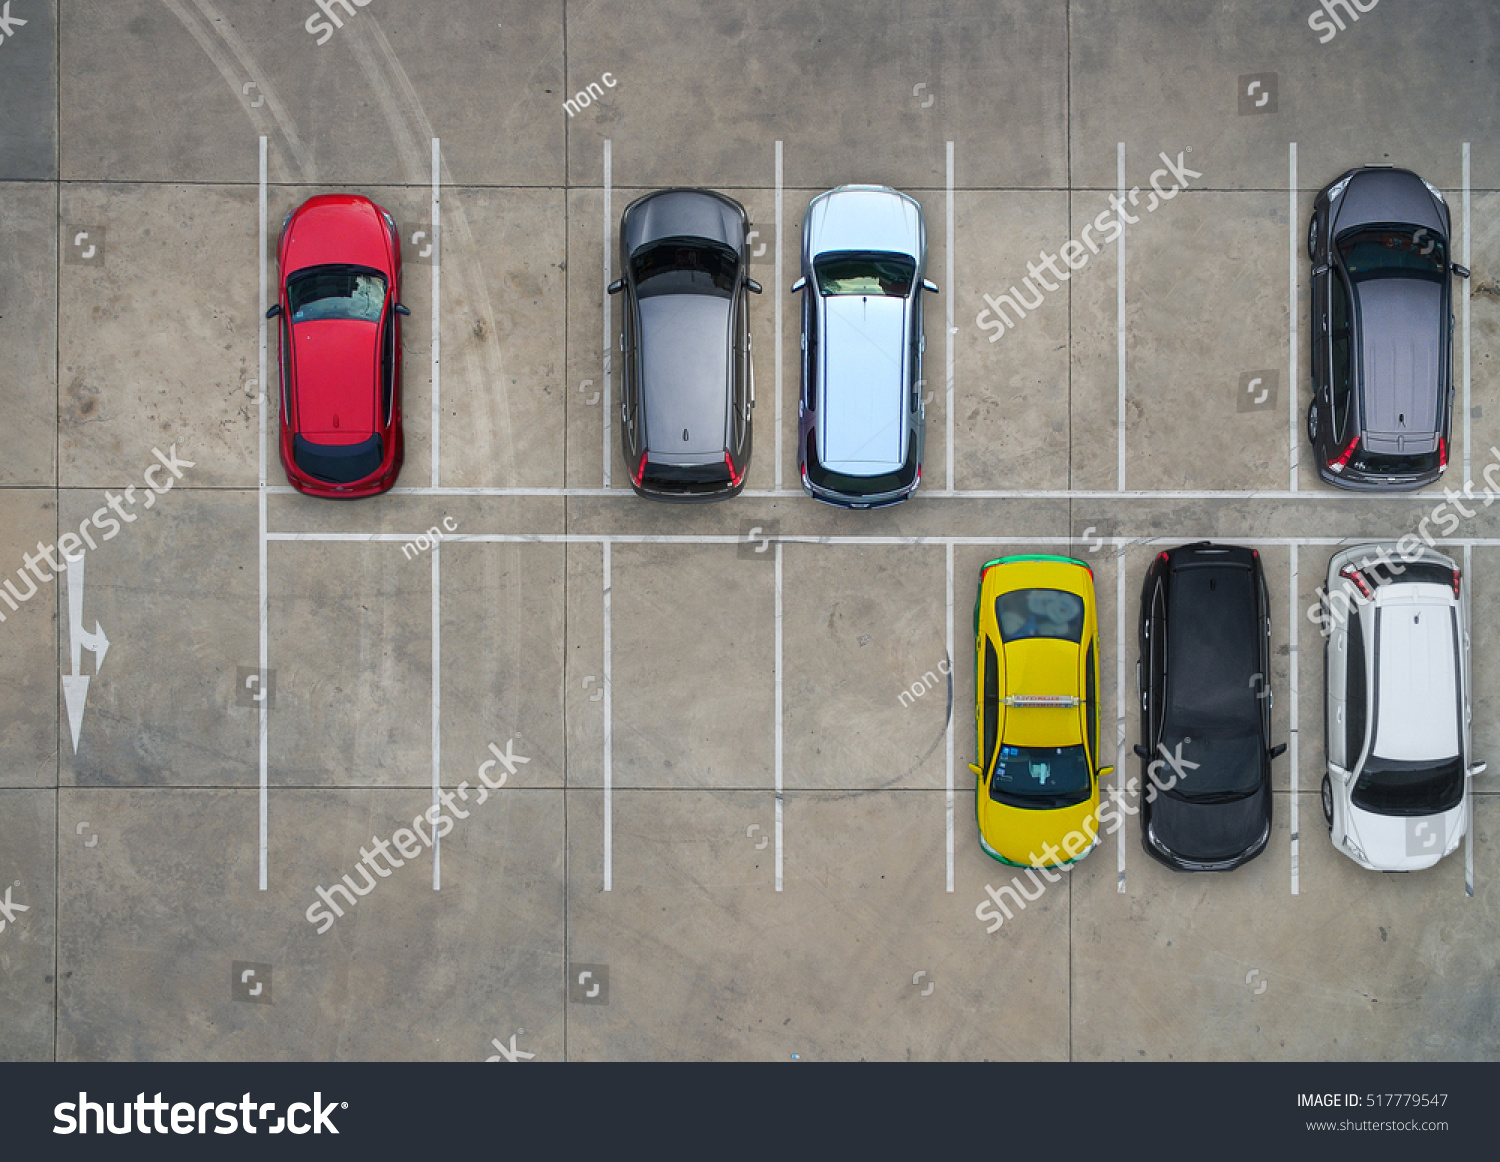Car: (1300, 157, 1460, 492), (1319, 540, 1471, 886), (1135, 543, 1281, 881), (966, 551, 1109, 878), (269, 190, 412, 509), (616, 185, 762, 495), (795, 175, 928, 509)
LaneMark: (267, 530, 1500, 548), (928, 486, 1500, 503), (258, 132, 269, 896), (1459, 136, 1476, 501), (1286, 136, 1302, 497), (769, 136, 785, 495), (429, 136, 444, 492), (1113, 536, 1127, 894), (944, 536, 958, 890), (601, 540, 614, 894), (1291, 533, 1302, 903), (772, 536, 783, 903), (1116, 136, 1127, 501), (432, 536, 442, 901), (604, 136, 614, 486), (948, 136, 957, 497), (405, 486, 636, 497)
